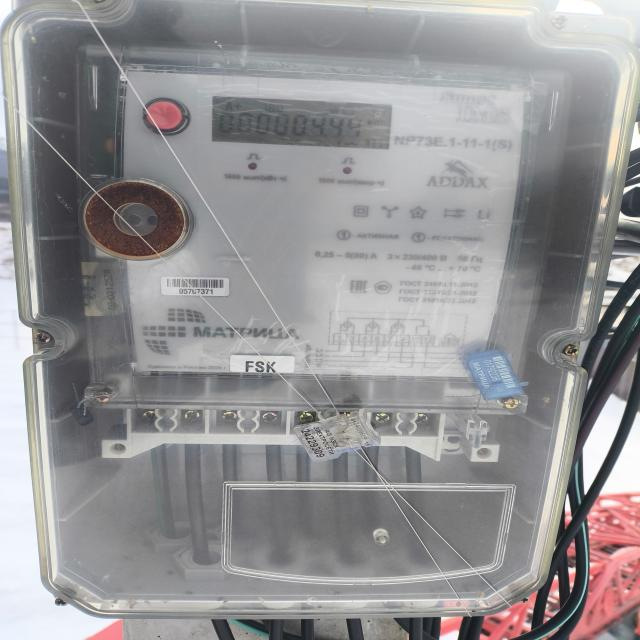Display: (212, 95, 392, 152)
meter_matrica: (98, 53, 540, 404)
meter_number: (162, 275, 229, 298)
seal_elso: (290, 406, 388, 465)
